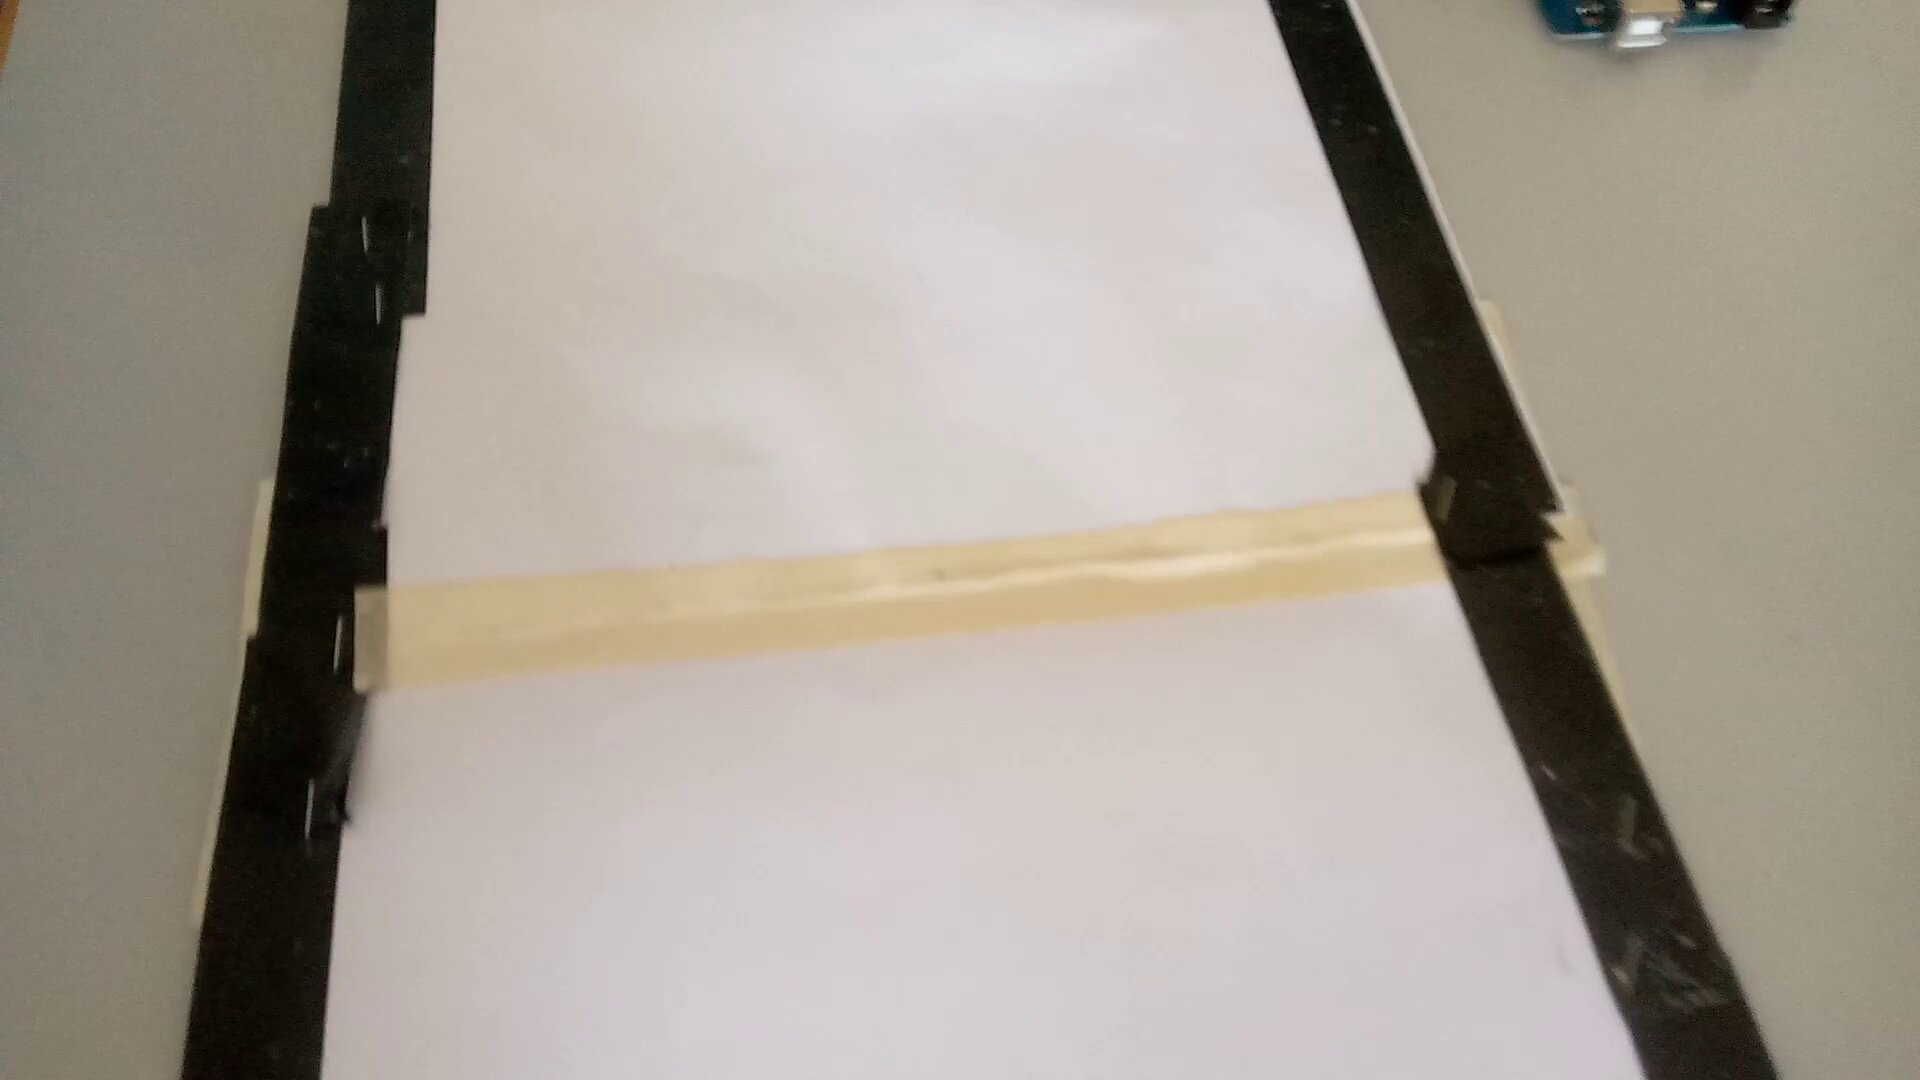forward: (248, 50, 1518, 487)
